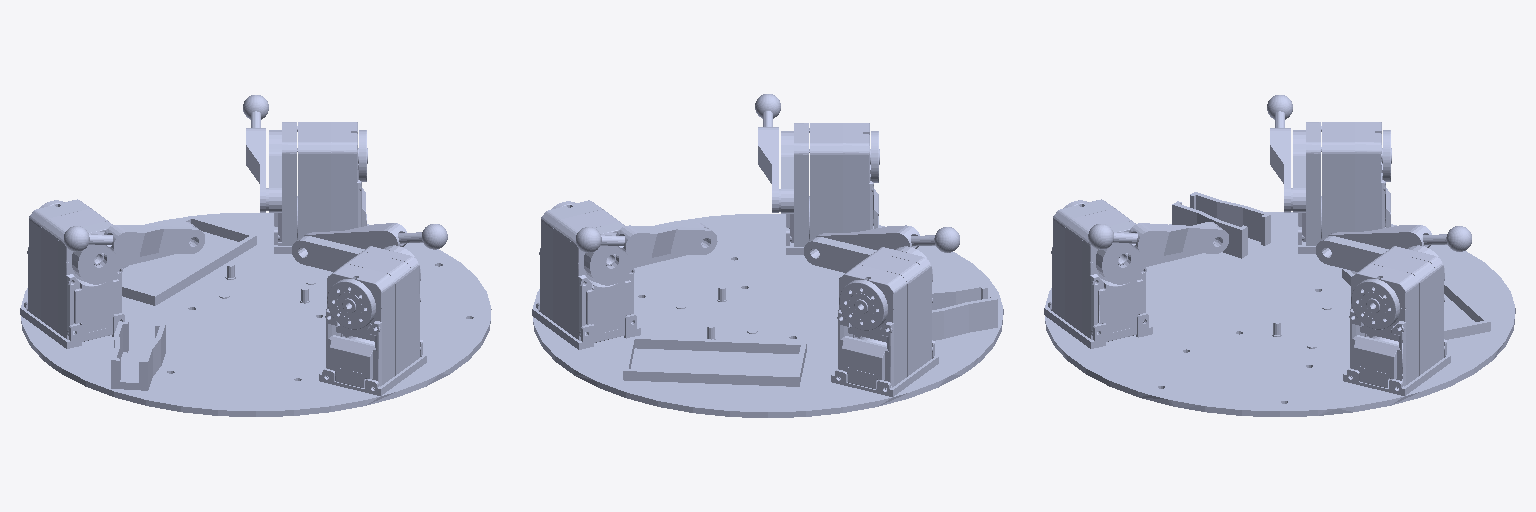
robot.urdf — ball_balancer:
<?xml version="1.0" encoding="utf-8"?>
<!-- This URDF was automatically created by SolidWorks to URDF Exporter! Originally created by [author] ([email redacted]) 
     Commit Version: 1.6.0-4-g7f85cfe  Build Version: 1.6.7995.38578
     For more information, please see http://wiki.ros.org/sw_urdf_exporter -->
<robot
  name="ball_balancer">
  <link
    name="base_link">
    <inertial>
      <origin
        xyz="-0.00098764643898577 0.000283424831778992 0.0127027628580996"
        rpy="0 0 0" />
      <mass
        value="0.140328552667325" />
      <inertia
        ixx="0.000337871673748816"
        ixy="-2.8151634803952E-06"
        ixz="-1.0335436792495E-06"
        iyy="0.00034127296506127"
        iyz="6.62368371674353E-07"
        izz="0.000598350452595104" />
    </inertial>
    <visual>
      <origin
        xyz="0 0 0"
        rpy="0 0 0" />
      <geometry>
        <mesh
          filename="package://ball_balancer/meshes/base_link.STL" />
      </geometry>
      <material
        name="">
        <color
          rgba="0.792156862745098 0.819607843137255 0.933333333333333 1" />
      </material>
    </visual>
    <collision>
      <origin
        xyz="0 0 0"
        rpy="0 0 0" />
      <geometry>
        <mesh
          filename="package://ball_balancer/meshes/base_link.STL" />
      </geometry>
    </collision>
  </link>
  <link
    name="servo_arm_1_link">
    <inertial>
      <origin
        xyz="3.67444957071446E-05 0.0141374705075089 -6.24500451351651E-17"
        rpy="0 0 0" />
      <mass
        value="0.00309980999161893" />
      <inertia
        ixx="7.53064525555482E-07"
        ixy="1.48615920681683E-22"
        ixz="2.83252122955225E-25"
        iyy="5.9755946353975E-08"
        iyz="-1.16769063089024E-21"
        izz="7.06064992829684E-07" />
    </inertial>
    <visual>
      <origin
        xyz="0 0 0"
        rpy="0 0 0" />
      <geometry>
        <mesh
          filename="package://ball_balancer/meshes/servo_arm_1_link.STL" />
      </geometry>
      <material
        name="">
        <color
          rgba="0.792156862745098 0.819607843137255 0.933333333333333 1" />
      </material>
    </visual>
    <collision>
      <origin
        xyz="0 0 0"
        rpy="0 0 0" />
      <geometry>
        <mesh
          filename="package://ball_balancer/meshes/servo_arm_1_link.STL" />
      </geometry>
    </collision>
  </link>
  <joint
    name="servo_arm_1_joint"
    type="revolute">
    <origin
      xyz="-0.065736 0.0073 0.03505"
      rpy="0 0 -1.5708" />
    <parent
      link="base_link" />
    <child
      link="servo_arm_1_link" />
    <axis
      xyz="-1 0 0" />
    <limit
      lower="-1.57"
      upper="0"
      effort="1.9"
      velocity="5.5" />
  </joint>
  <link
    name="table_arm_1_link">
    <inertial>
      <origin
        xyz="0.00200323165118161 -0.030245588924881 -1.18861464074027E-08"
        rpy="0 0 0" />
      <mass
        value="0.00256322375311019" />
      <inertia
        ixx="2.5397647409349E-07"
        ixy="2.24719540974155E-08"
        ixz="3.50562172645301E-14"
        iyy="3.10173137802653E-08"
        iyz="-3.73742597121492E-13"
        izz="2.47421754391359E-07" />
    </inertial>
    <visual>
      <origin
        xyz="0 0 0"
        rpy="0 0 0" />
      <geometry>
        <mesh
          filename="package://ball_balancer/meshes/table_arm_1_link.STL" />
      </geometry>
      <material
        name="">
        <color
          rgba="0.792156862745098 0.819607843137255 0.933333333333333 1" />
      </material>
    </visual>
    <collision>
      <origin
        xyz="0 0 0"
        rpy="0 0 0" />
      <geometry>
        <mesh
          filename="package://ball_balancer/meshes/table_arm_1_link.STL" />
      </geometry>
    </collision>
  </link>
  <joint
    name="table_arm_1_joint"
    type="revolute">
    <origin
      xyz="0.00455 0.039365 0"
      rpy="-0.2618 0 0" />
    <parent
      link="servo_arm_1_link" />
    <child
      link="table_arm_1_link" />
    <axis
      xyz="1 0 0" />
    <limit
      lower="-3.14"
      upper="0"
      effort="1.9"
      velocity="5.5" />
  </joint>
  <link
    name="table_arm_1_ball_link">
    <inertial>
      <origin
        xyz="-0.000746768348818531 0.0245456989225969 -1.18861463935249E-08"
        rpy="0 0 0" />
      <mass
        value="0.00256322375311019" />
      <inertia
        ixx="2.5397647409349E-07"
        ixy="2.24719540974154E-08"
        ixz="3.50562172651882E-14"
        iyy="3.10173137802652E-08"
        iyz="-3.73742597138036E-13"
        izz="2.47421754391359E-07" />
    </inertial>
    <visual>
      <origin
        xyz="0 0 0"
        rpy="0 0 0" />
      <geometry>
        <mesh
          filename="package://ball_balancer/meshes/table_arm_1_ball_link.STL" />
      </geometry>
      <material
        name="">
        <color
          rgba="0.792156862745098 0.819607843137255 0.933333333333333 1" />
      </material>
    </visual>
    <collision>
      <origin
        xyz="0 0 0"
        rpy="0 0 0" />
      <geometry>
        <mesh
          filename="package://ball_balancer/meshes/table_arm_1_ball_link.STL" />
      </geometry>
    </collision>
  </link>
  <joint
    name="table_arm_1_ball_joint"
    type="fixed">
    <origin
      xyz="0.00275 -0.054791 0"
      rpy="0 0 0" />
    <parent
      link="table_arm_1_link" />
    <child
      link="table_arm_1_ball_link" />
    <axis
      xyz="0 0 0" />
  </joint>
  <link
    name="servo_arm_2_link">
    <inertial>
      <origin
        xyz="3.67444957071542E-05 0.0141374705075089 -7.63278329429795E-17"
        rpy="0 0 0" />
      <mass
        value="0.00309980999161893" />
      <inertia
        ixx="7.53064525555482E-07"
        ixy="1.40620704134015E-22"
        ixz="5.43142717868586E-24"
        iyy="5.9755946353975E-08"
        iyz="-1.18099829620115E-21"
        izz="7.06064992829683E-07" />
    </inertial>
    <visual>
      <origin
        xyz="0 0 0"
        rpy="0 0 0" />
      <geometry>
        <mesh
          filename="package://ball_balancer/meshes/servo_arm_2_link.STL" />
      </geometry>
      <material
        name="">
        <color
          rgba="0.792156862745098 0.819607843137255 0.933333333333333 1" />
      </material>
    </visual>
    <collision>
      <origin
        xyz="0 0 0"
        rpy="0 0 0" />
      <geometry>
        <mesh
          filename="package://ball_balancer/meshes/servo_arm_2_link.STL" />
      </geometry>
    </collision>
  </link>
  <joint
    name="servo_arm_2_joint"
    type="revolute">
    <origin
      xyz="0.026546 -0.060579 0.03505"
      rpy="0 0 0.5236" />
    <parent
      link="base_link" />
    <child
      link="servo_arm_2_link" />
    <axis
      xyz="-1 0 0" />
    <limit
      lower="-1.57"
      upper="0"
      effort="1.9"
      velocity="5.5" />
  </joint>
  <link
    name="table_arm_2_link">
    <inertial>
      <origin
        xyz="0.00200322355127836 -0.0302455797787152 -9.30981117544527E-09"
        rpy="0 0 0" />
      <mass
        value="0.00256321394494201" />
      <inertia
        ixx="2.53975403411485E-07"
        ixy="2.2471697435682E-08"
        ixz="4.96634103249932E-14"
        iyy="3.10172591631405E-08"
        iyz="-2.96520786613035E-13"
        izz="2.4742054926573E-07" />
    </inertial>
    <visual>
      <origin
        xyz="0 0 0"
        rpy="0 0 0" />
      <geometry>
        <mesh
          filename="package://ball_balancer/meshes/table_arm_2_link.STL" />
      </geometry>
      <material
        name="">
        <color
          rgba="0.792156862745098 0.819607843137255 0.933333333333333 1" />
      </material>
    </visual>
    <collision>
      <origin
        xyz="0 0 0"
        rpy="0 0 0" />
      <geometry>
        <mesh
          filename="package://ball_balancer/meshes/table_arm_2_link.STL" />
      </geometry>
    </collision>
  </link>
  <joint
    name="table_arm_2_joint"
    type="revolute">
    <origin
      xyz="0.00455 0.039365 0"
      rpy="-0.27925 0 0" />
    <parent
      link="servo_arm_2_link" />
    <child
      link="table_arm_2_link" />
    <axis
      xyz="1 0 0" />
    <limit
      lower="-3.14"
      upper="0"
      effort="1.9"
      velocity="5.5" />
  </joint>
  <link
    name="table_arm_2_ball_link">
    <inertial>
      <origin
        xyz="-0.000746776448721724 0.0245457080687627 -9.30981114422025E-09"
        rpy="0 0 0" />
      <mass
        value="0.00256321394494201" />
      <inertia
        ixx="2.53975403411485E-07"
        ixy="2.2471697435682E-08"
        ixz="4.96634103249932E-14"
        iyy="3.10172591631405E-08"
        iyz="-2.96520786613035E-13"
        izz="2.4742054926573E-07" />
    </inertial>
    <visual>
      <origin
        xyz="0 0 0"
        rpy="0 0 0" />
      <geometry>
        <mesh
          filename="package://ball_balancer/meshes/table_arm_2_ball_link.STL" />
      </geometry>
      <material
        name="">
        <color
          rgba="0.792156862745098 0.819607843137255 0.933333333333333 1" />
      </material>
    </visual>
    <collision>
      <origin
        xyz="0 0 0"
        rpy="0 0 0" />
      <geometry>
        <mesh
          filename="package://ball_balancer/meshes/table_arm_2_ball_link.STL" />
      </geometry>
    </collision>
  </link>
  <joint
    name="table_arm_2_ball_joint"
    type="fixed">
    <origin
      xyz="0.00275 -0.054791 0"
      rpy="0 0 0" />
    <parent
      link="table_arm_2_link" />
    <child
      link="table_arm_2_ball_link" />
    <axis
      xyz="0 0 0" />
  </joint>
  <link
    name="servo_arm_3_link">
    <inertial>
      <origin
        xyz="3.67444957071576E-05 0.0141374705075089 -7.63278329429795E-17"
        rpy="0 0 0" />
      <mass
        value="0.00309980999161893" />
      <inertia
        ixx="7.53064525555483E-07"
        ixy="-6.61744490042422E-24"
        ixz="1.01266360720706E-24"
        iyy="5.9755946353975E-08"
        iyz="-1.08115405423308E-21"
        izz="7.06064992829684E-07" />
    </inertial>
    <visual>
      <origin
        xyz="0 0 0"
        rpy="0 0 0" />
      <geometry>
        <mesh
          filename="package://ball_balancer/meshes/servo_arm_3_link.STL" />
      </geometry>
      <material
        name="">
        <color
          rgba="0.792156862745098 0.819607843137255 0.933333333333333 1" />
      </material>
    </visual>
    <collision>
      <origin
        xyz="0 0 0"
        rpy="0 0 0" />
      <geometry>
        <mesh
          filename="package://ball_balancer/meshes/servo_arm_3_link.STL" />
      </geometry>
    </collision>
  </link>
  <joint
    name="servo_arm_3_joint"
    type="revolute">
    <origin
      xyz="0.03919 0.053279 0.03505"
      rpy="0 0 2.618" />
    <parent
      link="base_link" />
    <child
      link="servo_arm_3_link" />
    <axis
      xyz="-1 0 0" />
    <limit
      lower="-1.57"
      upper="0"
      effort="1.9"
      velocity="5.5" />
  </joint>
  <link
    name="table_arm_3_link">
    <inertial>
      <origin
        xyz="0.00200321195554552 -0.0302455620616148 -1.03093975925561E-08"
        rpy="0 0 0" />
      <mass
        value="0.00256319746004798" />
      <inertia
        ixx="2.53973519433809E-07"
        ixy="2.24713070970572E-08"
        ixz="1.27314190247887E-13"
        iyy="3.10171931225822E-08"
        iyz="-3.13248110057503E-13"
        izz="2.47418505658137E-07" />
    </inertial>
    <visual>
      <origin
        xyz="0 0 0"
        rpy="0 0 0" />
      <geometry>
        <mesh
          filename="package://ball_balancer/meshes/table_arm_3_link.STL" />
      </geometry>
      <material
        name="">
        <color
          rgba="0.792156862745098 0.819607843137255 0.933333333333333 1" />
      </material>
    </visual>
    <collision>
      <origin
        xyz="0 0 0"
        rpy="0 0 0" />
      <geometry>
        <mesh
          filename="package://ball_balancer/meshes/table_arm_3_link.STL" />
      </geometry>
    </collision>
  </link>
  <joint
    name="table_arm_3_joint"
    type="revolute">
    <origin
      xyz="0.00455 0.039365 0"
      rpy="-0.2618 0 0" />
    <parent
      link="servo_arm_3_link" />
    <child
      link="table_arm_3_link" />
    <axis
      xyz="1 0 0" />
    <limit
      lower="-3.14"
      upper="0"
      effort="1.9"
      velocity="5.5" />
  </joint>
  <link
    name="table_arm_3_ball_link">
    <inertial>
      <origin
        xyz="-0.000746788044454532 0.0245457257858631 -1.03093975578616E-08"
        rpy="0 0 0" />
      <mass
        value="0.00256319746004798" />
      <inertia
        ixx="2.53973519433809E-07"
        ixy="2.24713070970572E-08"
        ixz="1.27314190251196E-13"
        iyy="3.10171931225822E-08"
        iyz="-3.13248110055848E-13"
        izz="2.47418505658137E-07" />
    </inertial>
    <visual>
      <origin
        xyz="0 0 0"
        rpy="0 0 0" />
      <geometry>
        <mesh
          filename="package://ball_balancer/meshes/table_arm_3_ball_link.STL" />
      </geometry>
      <material
        name="">
        <color
          rgba="0.792156862745098 0.819607843137255 0.933333333333333 1" />
      </material>
    </visual>
    <collision>
      <origin
        xyz="0 0 0"
        rpy="0 0 0" />
      <geometry>
        <mesh
          filename="package://ball_balancer/meshes/table_arm_3_ball_link.STL" />
      </geometry>
    </collision>
  </link>
  <joint
    name="table_arm_3_ball_joint"
    type="fixed">
    <origin
      xyz="0.00275 -0.054791 0"
      rpy="0 0 0" />
    <parent
      link="table_arm_3_link" />
    <child
      link="table_arm_3_ball_link" />
    <axis
      xyz="0 0 0" />
  </joint>
</robot>

--- What the picture shows (computed from the rendered views, not written in the file) ---
The picture shows the robot from 3 angles, left to right: view 1: azimuth 30°, elevation 25°; view 2: azimuth 150°, elevation 25°; view 3: azimuth 270°, elevation 25°; orthographic projection.
Model ball_balancer with 10 links and 9 joints (6 revolute, 3 fixed), rooted at base_link, posed every joint at zero.
Links seen in each view (by area): view 1: table_arm_3_ball_link, table_arm_2_link, base_link, table_arm_2_ball_link, servo_arm_2_link, servo_arm_3_link, table_arm_3_link, servo_arm_1_link, table_arm_1_link, table_arm_1_ball_link; view 2: table_arm_2_ball_link, table_arm_2_link, base_link, servo_arm_2_link, table_arm_1_link, servo_arm_1_link, servo_arm_3_link; view 3: table_arm_2_link, table_arm_1_ball_link, table_arm_3_ball_link, base_link, table_arm_2_ball_link, servo_arm_1_link, servo_arm_2_link, servo_arm_3_link, table_arm_3_link, table_arm_1_link.
Link boxes in pixels (left/top/right/bottom): table_arm_3_ball_link: left=26, top=98, right=480, bottom=416; table_arm_2_link: left=21, top=95, right=405, bottom=405; base_link: left=241, top=225, right=490, bottom=410; table_arm_2_ball_link: left=20, top=95, right=473, bottom=386; servo_arm_2_link: left=261, top=223, right=473, bottom=407; servo_arm_3_link: left=70, top=223, right=490, bottom=410; table_arm_3_link: left=246, top=97, right=477, bottom=289; servo_arm_1_link: left=257, top=95, right=483, bottom=407; table_arm_1_link: left=56, top=200, right=304, bottom=410; table_arm_1_ball_link: left=58, top=95, right=491, bottom=347; table_arm_2_ball_link: left=532, top=101, right=997, bottom=417; table_arm_2_link: left=533, top=184, right=1002, bottom=411; base_link: left=634, top=99, right=964, bottom=286; servo_arm_2_link: left=634, top=95, right=927, bottom=284; table_arm_1_link: left=813, top=226, right=996, bottom=380; servo_arm_1_link: left=551, top=94, right=943, bottom=389; servo_arm_3_link: left=634, top=94, right=959, bottom=288; table_arm_2_link: left=1150, top=95, right=1514, bottom=404; table_arm_1_ball_link: left=1050, top=98, right=1490, bottom=416; table_arm_3_ball_link: left=1044, top=95, right=1466, bottom=390; base_link: left=1045, top=200, right=1286, bottom=410; table_arm_2_ball_link: left=1097, top=95, right=1515, bottom=403; servo_arm_1_link: left=1045, top=205, right=1461, bottom=406; servo_arm_2_link: left=1047, top=199, right=1279, bottom=409; servo_arm_3_link: left=1045, top=95, right=1286, bottom=407; table_arm_3_link: left=1090, top=202, right=1456, bottom=410; table_arm_1_link: left=1146, top=97, right=1389, bottom=288.
Bounding box of the posed robot: 0.18 × 0.1799 × 0.0576 m (x, y, z).
Meshes: 10 distinct files referenced, 10 mesh visuals loaded (10 binary STL).